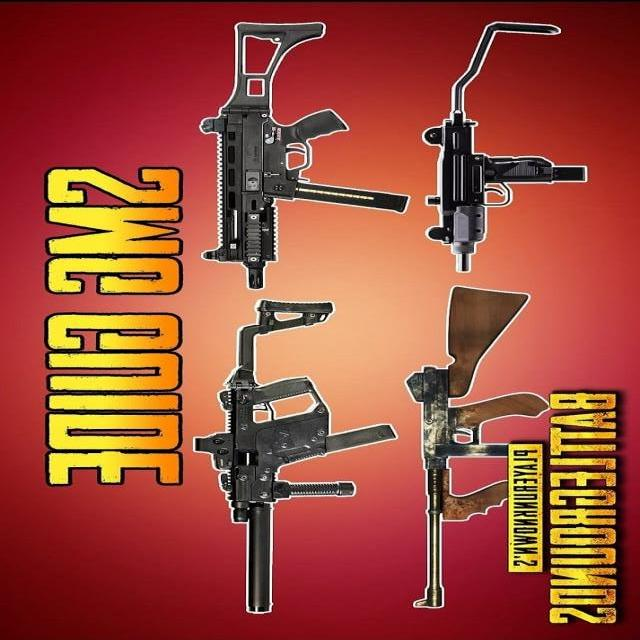smg: (201, 294, 396, 618), (195, 14, 416, 290), (406, 291, 550, 613), (424, 21, 595, 275)
